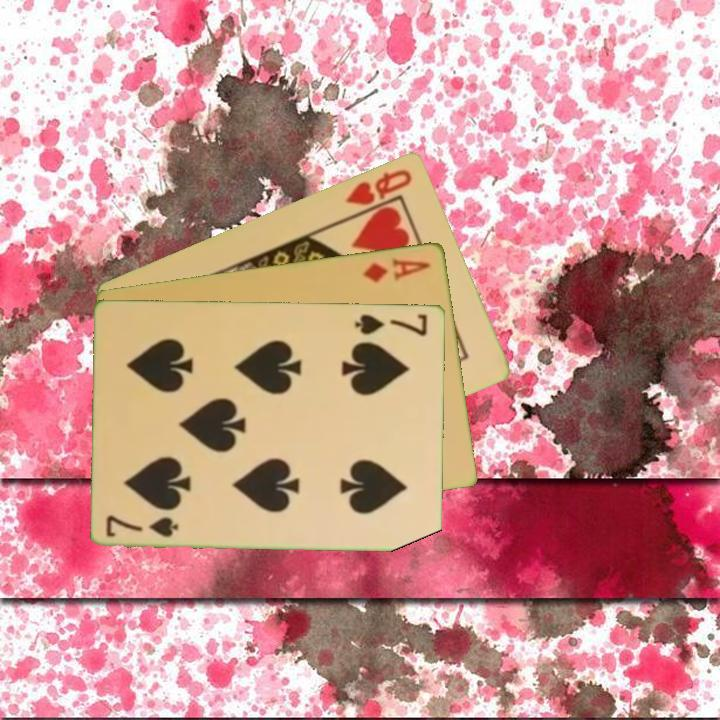7s: (352, 310, 431, 339), (103, 511, 182, 540)
Ad: (359, 254, 434, 285)
Qh: (342, 165, 415, 208)
